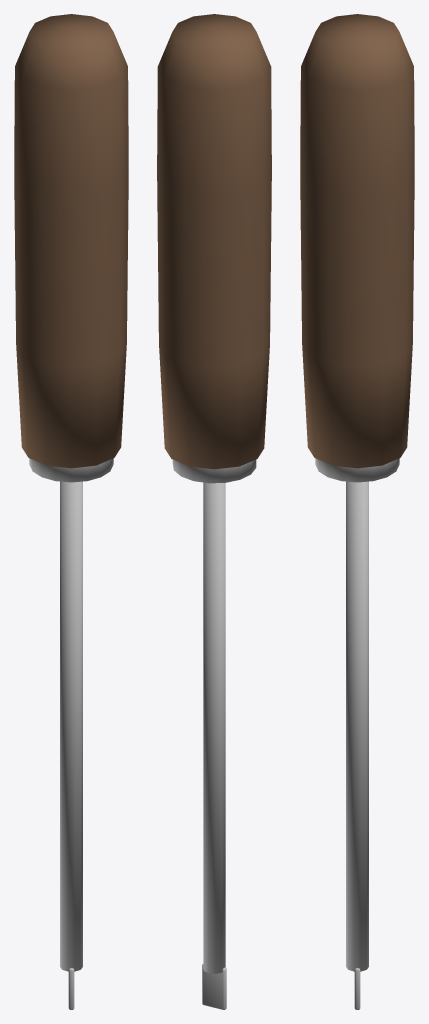
The model's file is fx_screwdriver.glb.
The picture shows the model from 3 angles, left to right: view 1: azimuth 90°, elevation 25°; view 2: azimuth 150°, elevation 25°; view 3: azimuth 270°, elevation 25°; orthographic projection.
Visible parts, largest first — view 1: fx_screwdriver; view 2: fx_screwdriver; view 3: fx_screwdriver.
Boxes of the visible parts, x1,y1,x2,y2 form: fx_screwdriver: (14, 14, 128, 1009); fx_screwdriver: (157, 14, 271, 1009); fx_screwdriver: (300, 14, 414, 1009).
Size of the model in its own units: 0.03 by 0.282 by 0.03.
